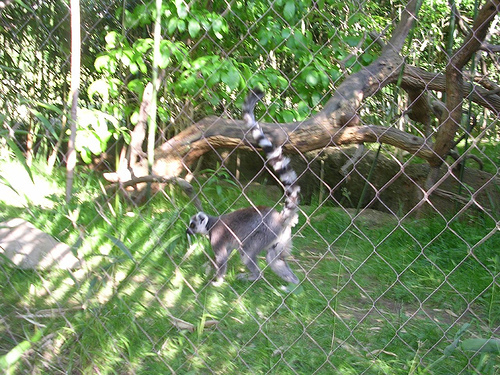cat: (184, 88, 305, 295)
